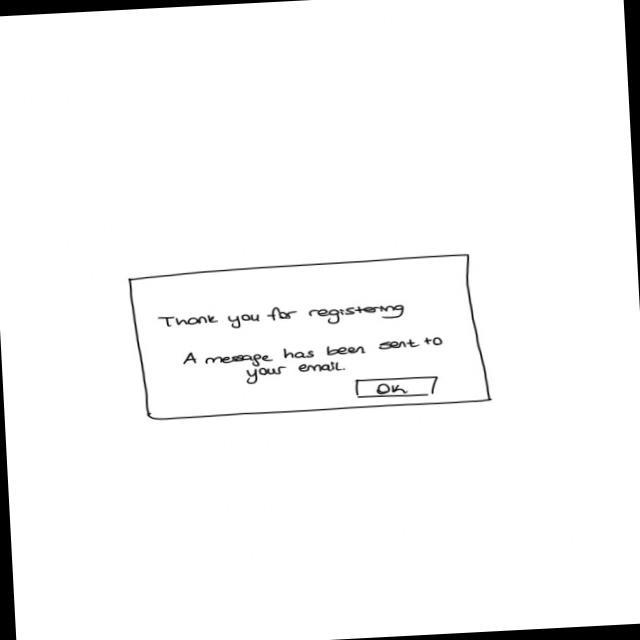button: (354, 375, 443, 402)
container: (127, 254, 496, 423)
label: (182, 335, 448, 391), (158, 300, 409, 336)
